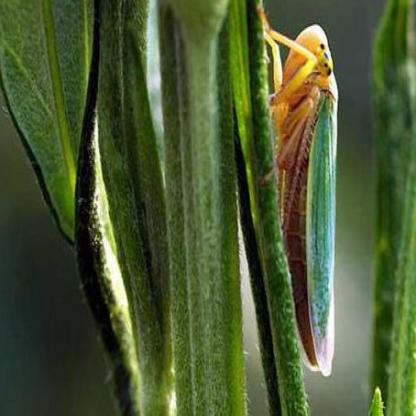Green-Leafhopper: (254, 0, 351, 384)
